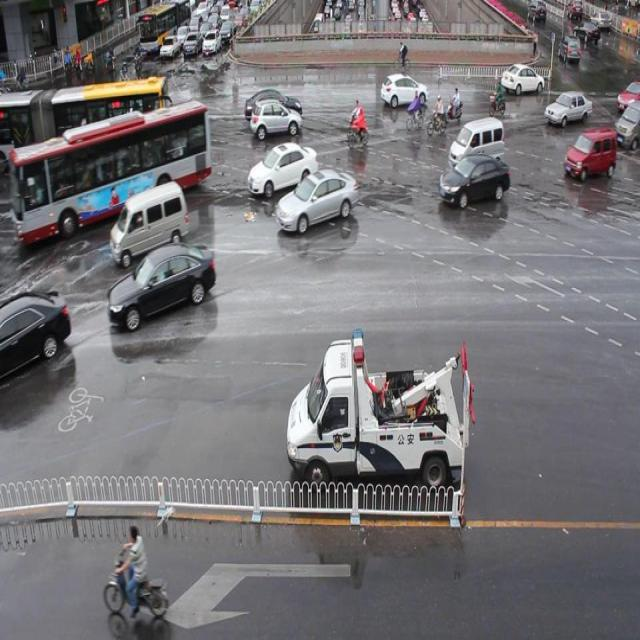bus: (287, 326, 474, 493)
car: (109, 242, 216, 326), (0, 286, 72, 378), (275, 170, 358, 228), (440, 154, 509, 205), (248, 143, 316, 194), (562, 126, 616, 176), (244, 88, 301, 124), (381, 71, 429, 109), (251, 100, 301, 136), (542, 90, 591, 126), (499, 60, 542, 93)
truck: (111, 179, 188, 265), (446, 116, 503, 172)
van: (11, 100, 210, 243), (1, 75, 168, 178)
